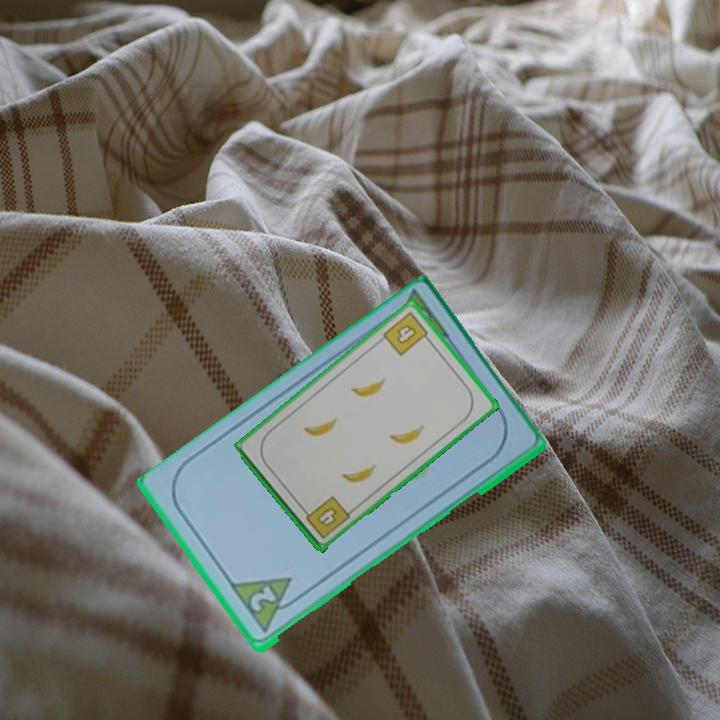2p: (246, 583, 279, 616)
4b: (379, 308, 434, 359), (299, 492, 353, 542)
